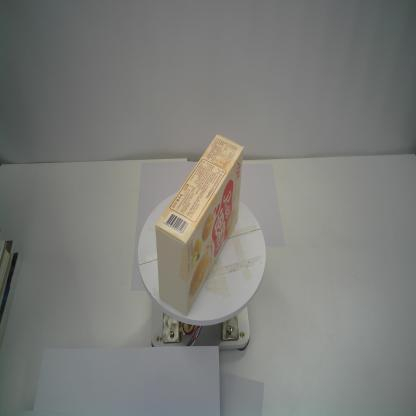Dessert: (154, 133, 243, 317)
